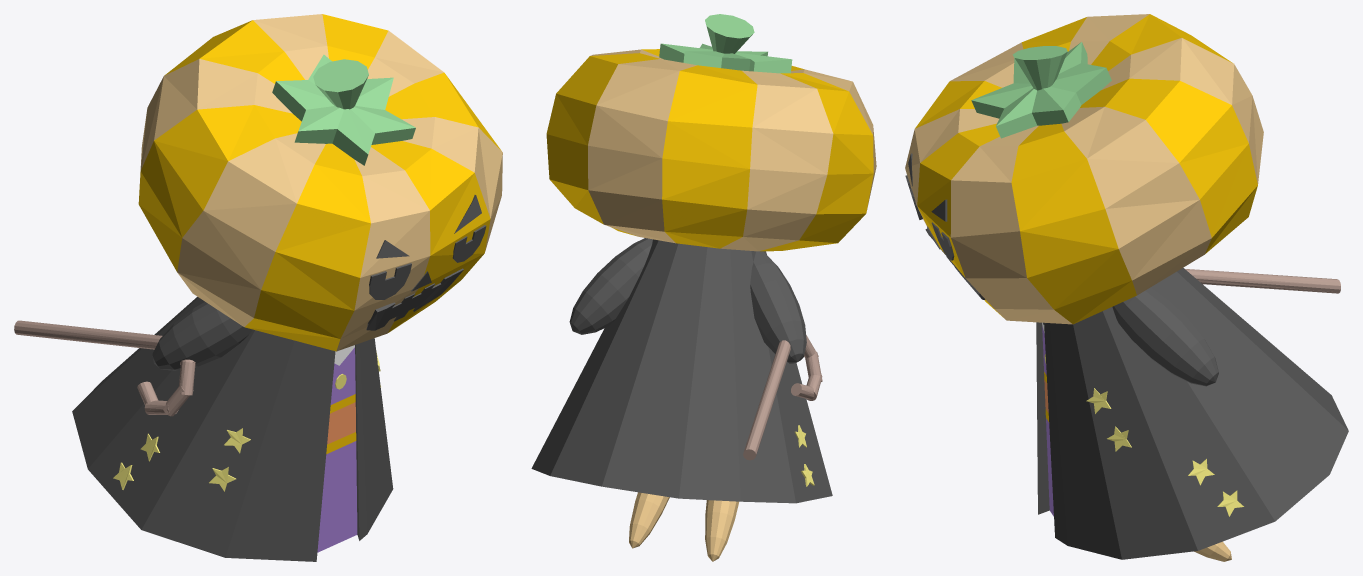
Rendered from scarecrow-pumpkin.glb.
3 renders of one model, left to right at view 1: azimuth 30°, elevation 25°; view 2: azimuth 150°, elevation 25°; view 3: azimuth 270°, elevation 25°, orthographic. The views are drawn at different scales.
Visible parts, largest first — view 1: group1028182464, group1257163025, group2126971923, group895333056, group783642818, group323523978, group845433225, group897812302, group1402068269; view 2: group1028182464, group1257163025, group895333056, group448079782, group2126971923, group783642818, group752553771, group323523978, group62794897; view 3: group1028182464, group1257163025, group2126971923, group448079782, group783642818, group323523978.
Part boxes in pixels (x1,y1,x2,y2): group1028182464: (138, 14, 502, 351); group1257163025: (72, 297, 393, 561); group2126971923: (272, 54, 415, 165); group895333056: (152, 302, 252, 370); group783642818: (14, 320, 162, 349); group323523978: (313, 59, 368, 109); group845433225: (366, 268, 463, 330); group897812302: (369, 263, 411, 299); group1402068269: (452, 225, 486, 262); group1028182464: (546, 49, 876, 251); group1257163025: (531, 239, 832, 503); group895333056: (750, 251, 806, 363); group448079782: (569, 238, 652, 334); group2126971923: (659, 43, 792, 73); group783642818: (743, 340, 790, 460); group752553771: (705, 500, 738, 561); group323523978: (705, 14, 754, 53); group62794897: (629, 492, 669, 548); group1028182464: (905, 14, 1263, 324); group1257163025: (1036, 268, 1348, 559); group2126971923: (971, 42, 1111, 138); group448079782: (1112, 287, 1218, 386); group783642818: (1185, 269, 1340, 293); group323523978: (1012, 46, 1067, 90).
Size of the model in its own units: 0.9534 by 1.41 by 1.1.
